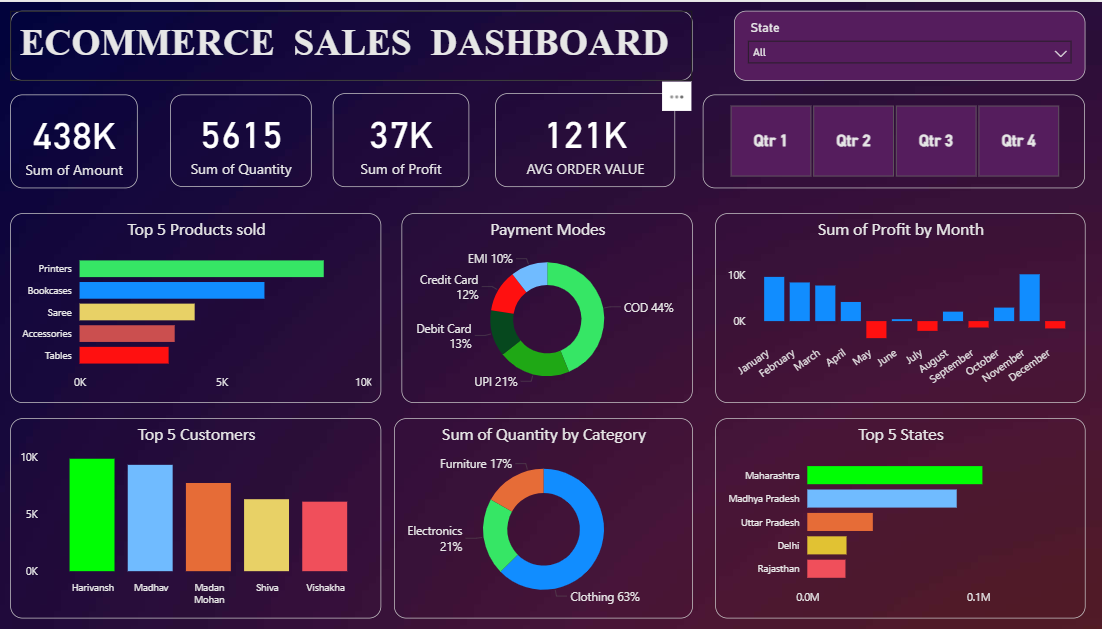

The page's visual inventory and layout, read from the dashboard file:
{"tool":"powerbi","page":{"name":"Page 1","canvas":[1280,720],"ordinal":0},"visuals":[{"type":"columnChart","fields":{"Category":["Orders.Order Date.Variation.Date Hierarchy.Month","Orders.Order Date.Variation.Date Hierarchy.Day"],"Y":["Details.Profit"]},"box":[835.7,241.4,422.9,217.1],"z":0},{"type":"card","fields":{"Values":["Details.Amount"]},"box":[30,105.7,145.7,107.1],"z":1000},{"type":"barChart","title":"Top 5 Products sold","fields":{"Y":["Details.Profit"],"Category":["Details.Sub-Category"]},"box":[30,241.4,424.3,217.1],"z":2000},{"type":"donutChart","fields":{"Category":["Details.Category"],"Y":["Details.Quantity"]},"box":[468.6,475.7,341.4,228.6],"z":3000},{"type":"donutChart","title":" Payment Modes","fields":{"Y":["Details.Quantity"],"Category":["Details.PaymentMode"]},"box":[477.1,241.4,332.9,217.1],"z":4000},{"type":"card","fields":{"Values":["Details.Quantity"]},"box":[212.9,105.7,161.4,105.7],"z":5000},{"type":"card","fields":{"Values":["Details.Profit"]},"box":[398.6,104.3,155.7,107.1],"z":6000},{"type":"card","fields":{"Values":["Details.AVARAGE ORDER VALUE"]},"box":[584.3,104.3,205.7,107.1],"z":7000},{"type":"barChart","title":"Top 5 States","fields":{"Y":["Details.Amount"],"Category":["Orders.State"]},"box":[835.7,475.7,422.9,228.6],"z":8000},{"type":"columnChart","title":"Top 5 Customers","fields":{"Category":["Orders.CustomerName"],"Y":["Details.Amount"]},"box":[30,475.7,424.3,228.6],"z":9000},{"type":"slicer","fields":{"Values":["Orders.Order Date.Variation.Date Hierarchy.Quarter"]},"box":[821.4,105.7,437.1,107.1],"z":10000},{"type":"slicer","fields":{"Values":["Orders.State"]},"box":[857.1,10,401.4,80],"z":11000},{"type":"textbox","box":[30,10,780,80],"z":12000}]}

Visuals, with their boxes in screenshot pixels (x1, y1, x2, y2), scaled from the page's 1280x720 canvas onto the 1102x629 screenshot:
columnChart - Orders.Order Date.Variation.Date Hierarchy.Month x Orders.Order Date.Variation.Date Hierarchy.Day: BBox(719, 211, 1084, 401)
card - Details.Amount: BBox(26, 92, 151, 186)
"Top 5 Products sold" barChart: BBox(26, 211, 391, 401)
donutChart - Details.Category x Details.Quantity: BBox(403, 416, 697, 615)
" Payment Modes" donutChart: BBox(411, 211, 697, 401)
card - Details.Quantity: BBox(183, 92, 322, 185)
card - Details.Profit: BBox(343, 91, 477, 185)
card - Details.AVARAGE ORDER VALUE: BBox(503, 91, 680, 185)
"Top 5 States" barChart: BBox(719, 416, 1084, 615)
"Top 5 Customers" columnChart: BBox(26, 416, 391, 615)
slicer - Orders.Order Date.Variation.Date Hierarchy.Quarter: BBox(707, 92, 1083, 186)
slicer - Orders.State: BBox(738, 9, 1083, 79)
textbox: BBox(26, 9, 697, 79)
